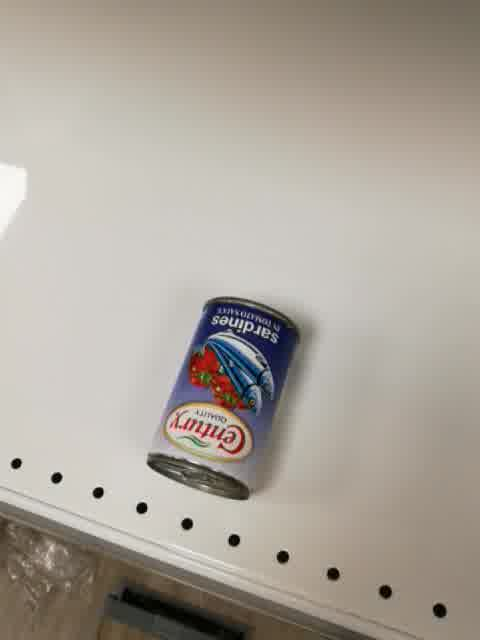sardine: (145, 296, 303, 501)
